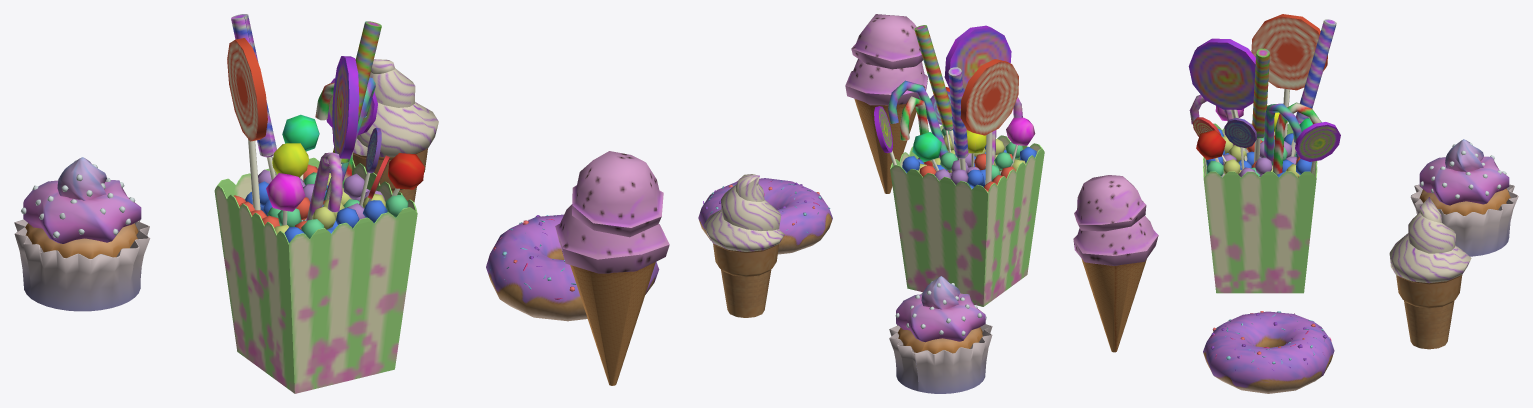
The model's file is low-poly-sweets-pack-f29161.glb.
The picture shows the model from 3 angles, left to right: view 1: azimuth 30°, elevation 25°; view 2: azimuth 150°, elevation 25°; view 3: azimuth 270°, elevation 25°; orthographic projection. The views are drawn at different scales.
Parts seen in each view (by area): view 1: PropMesh; view 2: PropMesh; view 3: PropMesh.
Part boxes in pixels (x1,y1,x2,y2): PropMesh: (14, 14, 669, 393); PropMesh: (698, 14, 1044, 393); PropMesh: (1073, 14, 1518, 393).
Size of the model in its own units: 0.7136 by 0.4501 by 0.7297.
5 materials, 5 textured.
